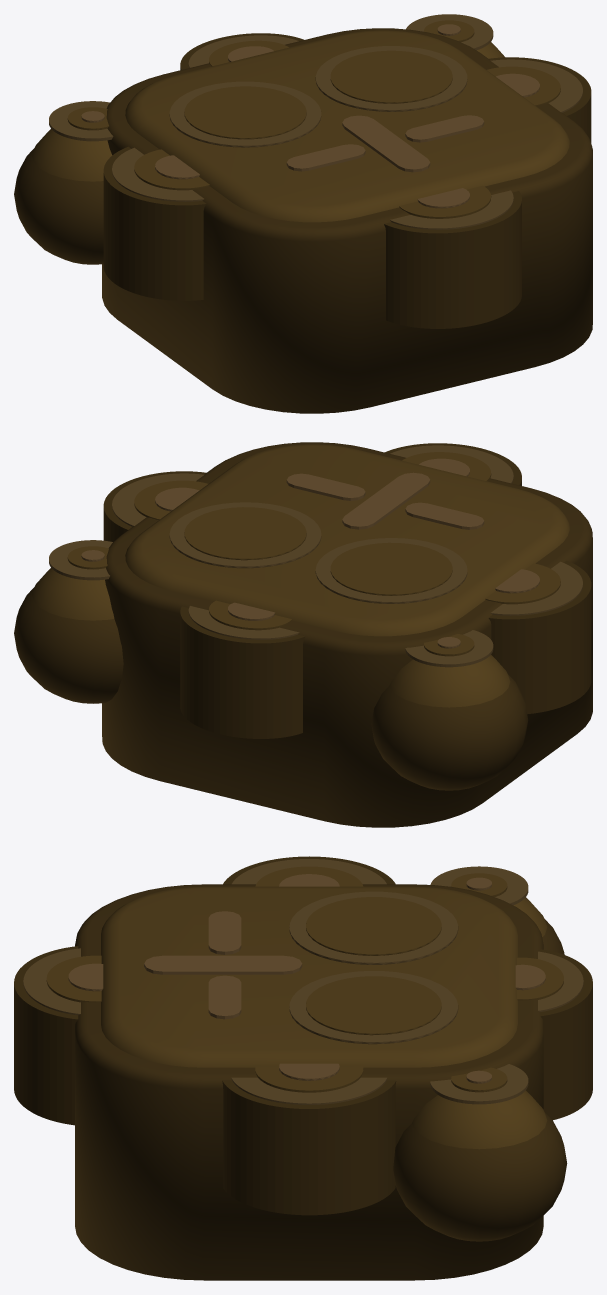
Rendered from body_urso_madeira.fbx.
3 renders of one model, top to bottom at view 1: azimuth 30°, elevation 25°; view 2: azimuth 150°, elevation 25°; view 3: azimuth 270°, elevation 25°, orthographic. The views are drawn at different scales.
Visible parts, largest first — view 1: body_urso_madeira_corpo, body_urso_madeira_mao_esq, body_urso_madeira_mao; view 2: body_urso_madeira_corpo, body_urso_madeira_mao_esq, body_urso_madeira_mao; view 3: body_urso_madeira_corpo, body_urso_madeira_mao, body_urso_madeira_mao_esq.
Boxes of the visible parts, box(x1,y1,x2,y2) form: body_urso_madeira_corpo: box(102, 28, 592, 413); body_urso_madeira_mao_esq: box(14, 101, 113, 264); body_urso_madeira_mao: box(406, 14, 504, 58); body_urso_madeira_corpo: box(102, 442, 592, 827); body_urso_madeira_mao_esq: box(371, 630, 528, 790); body_urso_madeira_mao: box(14, 540, 123, 703); body_urso_madeira_corpo: box(14, 856, 592, 1280); body_urso_madeira_mao: box(393, 1064, 567, 1241); body_urso_madeira_mao_esq: box(430, 866, 564, 954).
Bounding box in the file's own units: 5.4 × 2.05 × 4.94.
Materials: 1 (1 with a texture image).
